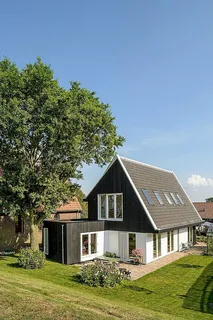private_hause: (93, 154, 200, 261)
